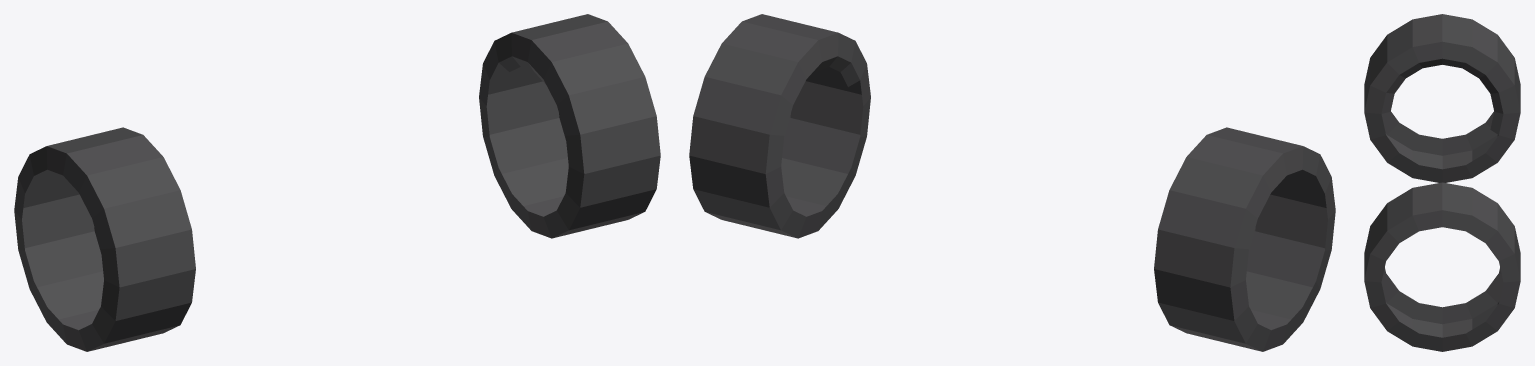
The model's file is behindTire.glb.
The picture shows the model from 3 angles, left to right: view 1: azimuth 30°, elevation 25°; view 2: azimuth 150°, elevation 25°; view 3: azimuth 270°, elevation 25°; orthographic projection. The views are drawn at different scales.
Parts seen in each view (by area): view 1: behindTire_Cube.007; view 2: behindTire_Cube.007; view 3: behindTire_Cube.007.
Boxes of the visible parts, x1,y1,x2,y2 form: behindTire_Cube.007: (14,14,660,351); behindTire_Cube.007: (689,14,1335,351); behindTire_Cube.007: (1364,14,1520,351).
Bounding box in the file's own units: 2.11 × 0.7003 × 0.7003.
1 material, 1 textured.
